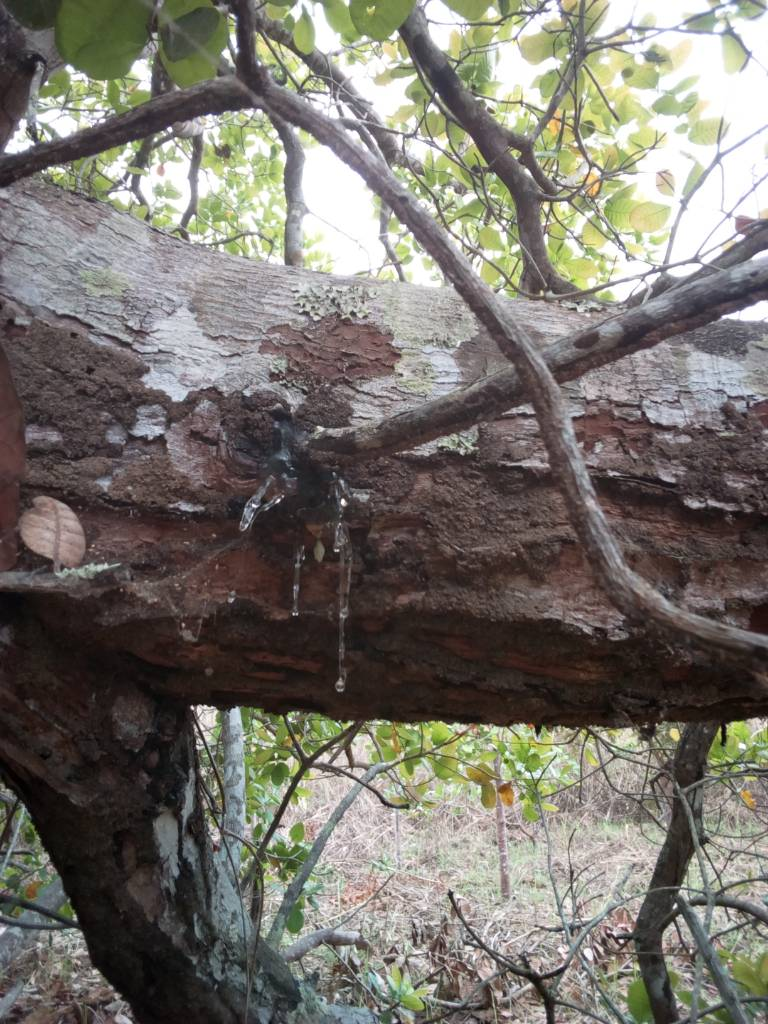Termites: (407, 452, 768, 722), (8, 311, 254, 664)
